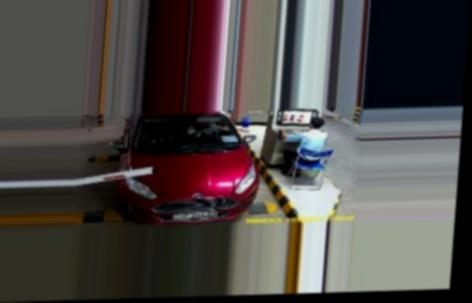License_Plate: (171, 209, 219, 223)
